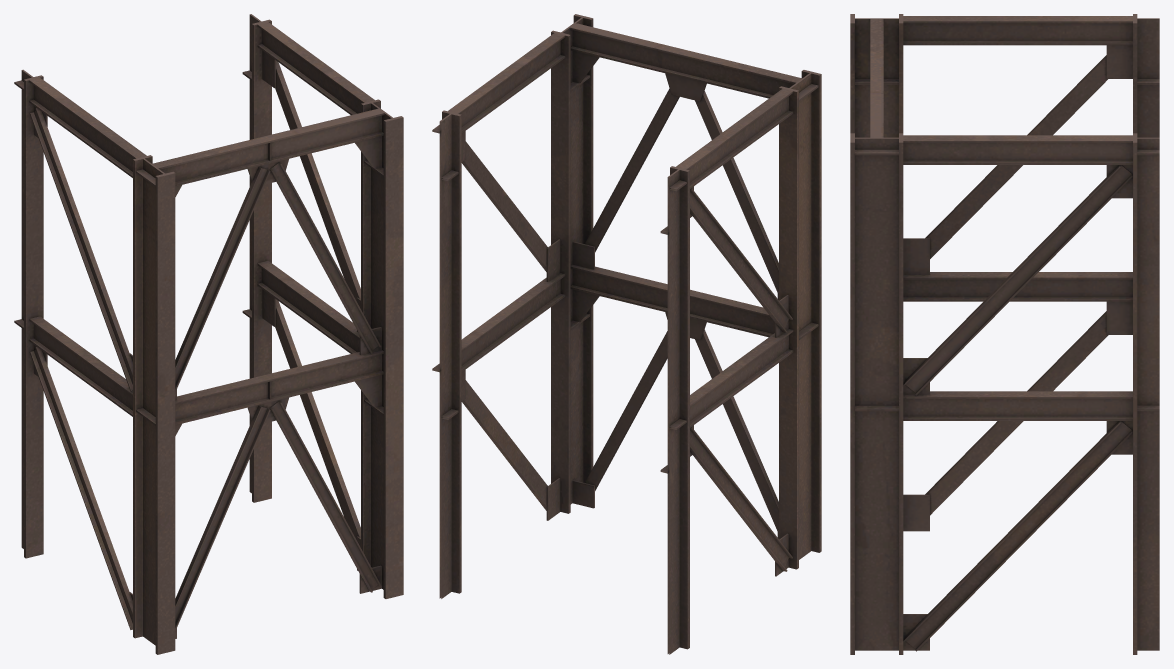
The model's file is gantry_256_b.glb.
3 views of the same model, side by side, from view 1: azimuth 30°, elevation 25°; view 2: azimuth 150°, elevation 25°; view 3: azimuth 270°, elevation 25° (orthographic). The views are drawn at different scales.
Visible parts, largest first — view 1: gantry_256_b; view 2: gantry_256_b; view 3: gantry_256_b.
Boxes of the visible parts, x1=… form: gantry_256_b: x1=14, y1=14, x2=403, y2=654; gantry_256_b: x1=432, y1=14, x2=821, y2=654; gantry_256_b: x1=850, y1=14, x2=1159, y2=654.
Bounding box in the file's own units: 2.63 × 4.88 × 2.67.
1 material, 1 textured.
